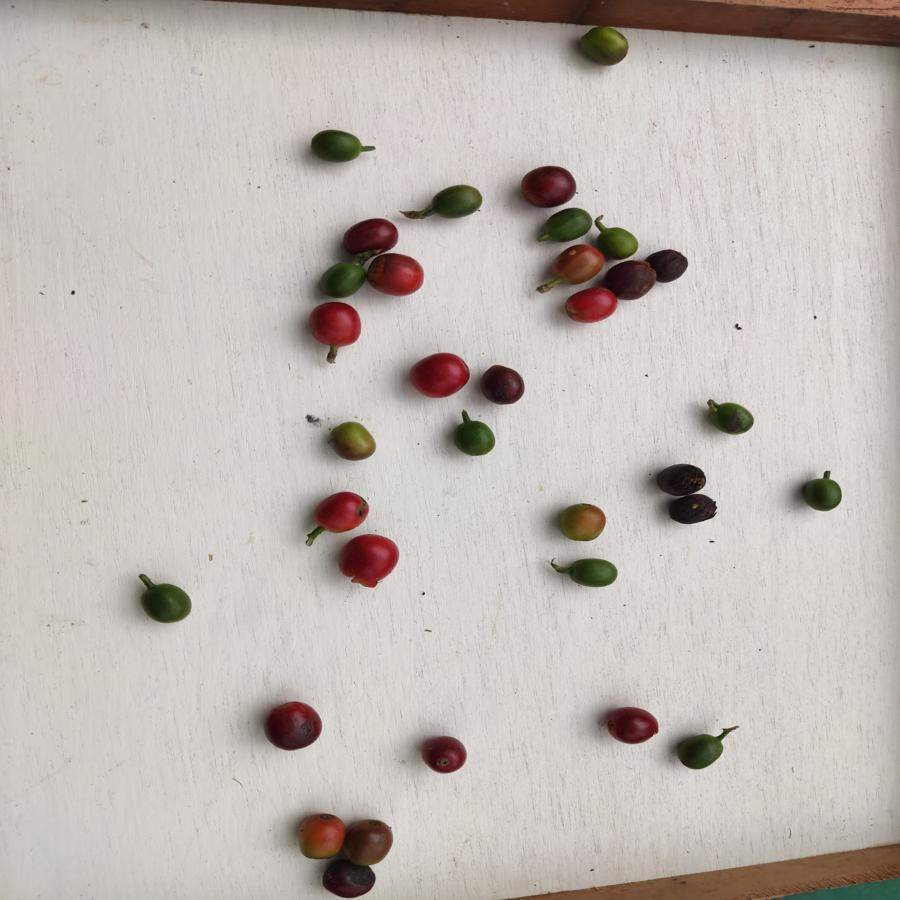Inmaduro: (133, 581, 197, 623), (306, 128, 371, 167), (447, 416, 500, 461), (678, 730, 727, 775), (429, 183, 485, 220), (566, 555, 621, 592), (315, 261, 365, 300), (537, 207, 596, 239), (802, 476, 846, 514), (595, 225, 643, 259), (711, 402, 756, 437)
Maduro: (336, 532, 402, 592), (406, 351, 471, 402), (304, 300, 368, 349), (312, 489, 369, 535), (367, 253, 427, 296), (563, 288, 620, 324)
Pinton: (553, 502, 608, 546), (547, 243, 604, 285), (296, 809, 344, 858), (325, 422, 380, 464), (577, 26, 631, 64)
Sobremaduro: (259, 699, 324, 750), (342, 817, 398, 868), (517, 165, 580, 208), (600, 705, 661, 747), (338, 218, 403, 256), (476, 362, 529, 408), (317, 859, 379, 898), (609, 259, 658, 302), (419, 735, 469, 776), (645, 246, 691, 286), (665, 494, 720, 527), (656, 463, 711, 495)
